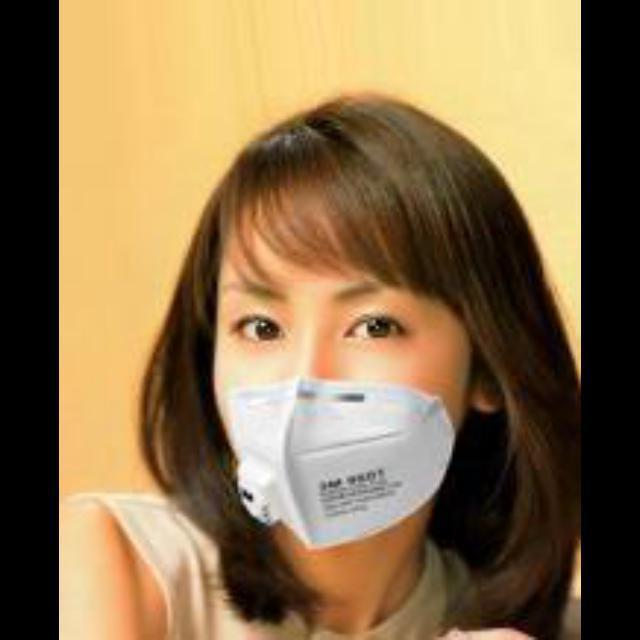1_mascarilla: (215, 375, 452, 551)
